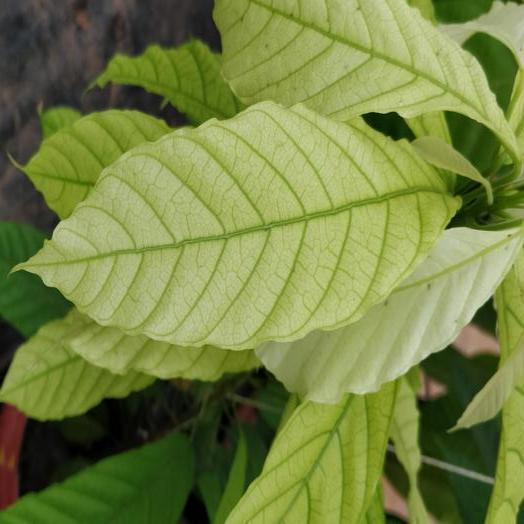Iron: (18, 102, 459, 349), (213, 0, 520, 173)
